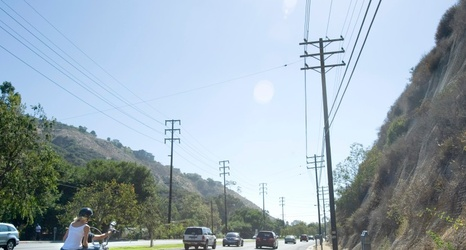utility_pole: (295, 30, 348, 83)
